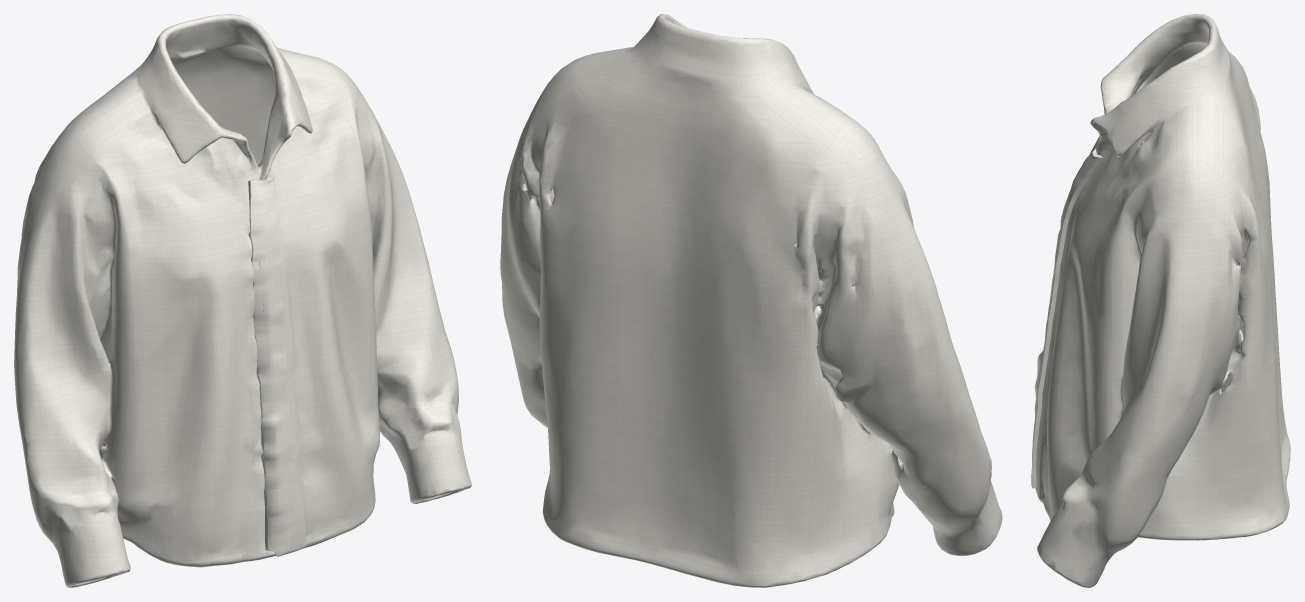
The model's file is shirt_3color.glb.
3 views of the same model, side by side, from view 1: azimuth 30°, elevation 25°; view 2: azimuth 150°, elevation 25°; view 3: azimuth 270°, elevation 25° (orthographic). The views are drawn at different scales.
Visible parts, largest first — view 1: Shirt; view 2: Shirt; view 3: Shirt.
Boxes of the visible parts, bbox=[...] form: Shirt: bbox=[14, 14, 471, 587]; Shirt: bbox=[500, 14, 1002, 587]; Shirt: bbox=[1031, 14, 1290, 587].
Bounding box in the file's own units: 1.85 × 1.99 × 0.9959.
2 materials, 1 textured.
